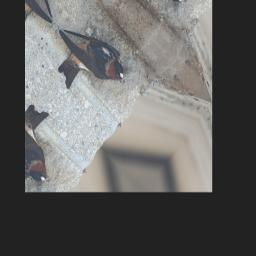Swallow: (38, 5, 134, 118)
